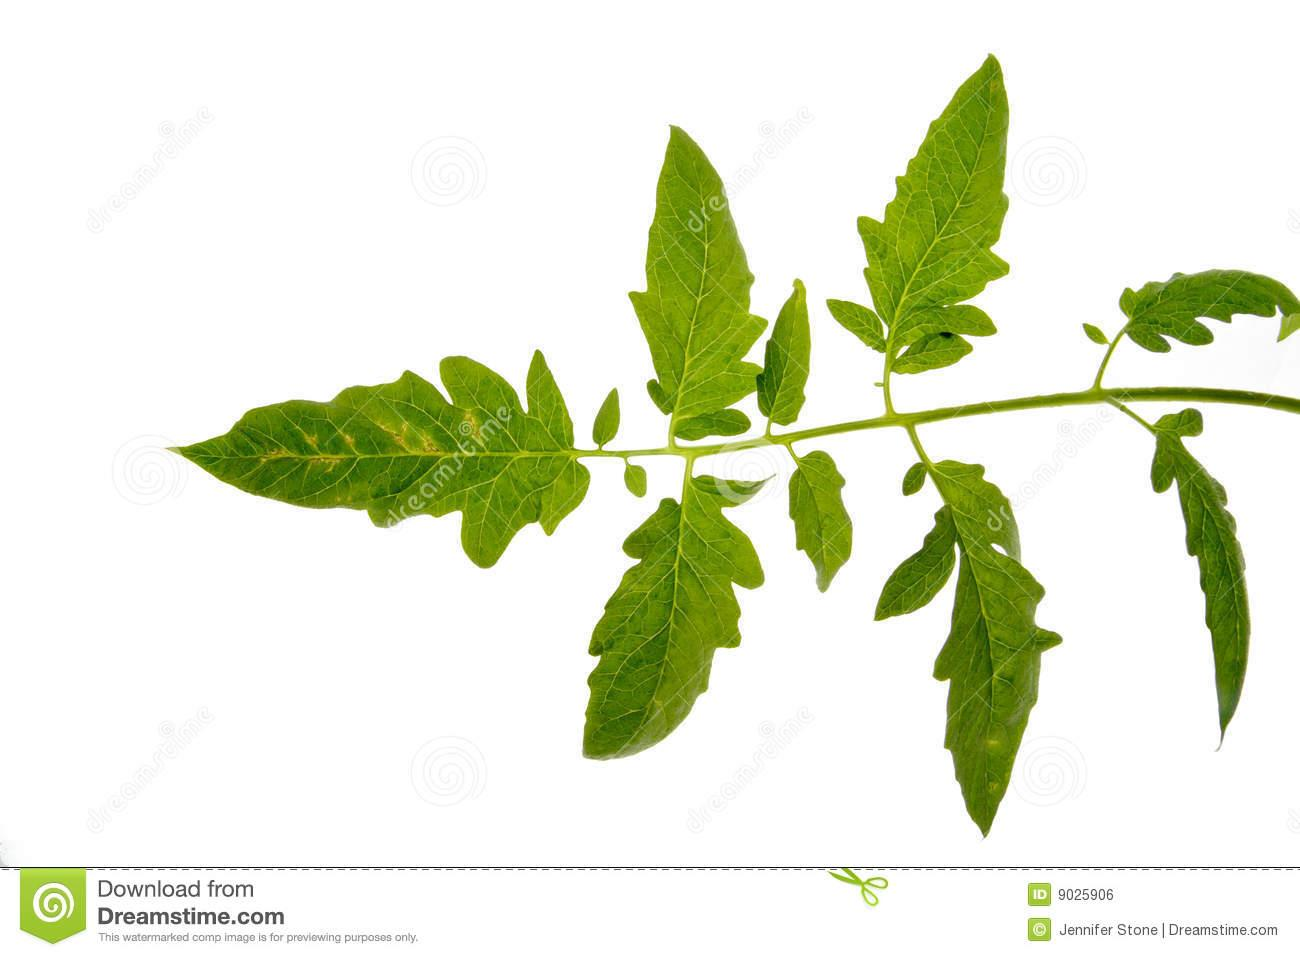Tomato leaf: (174, 329, 595, 609), (538, 450, 795, 818), (865, 433, 1073, 859), (807, 26, 1034, 399), (631, 79, 782, 461)
